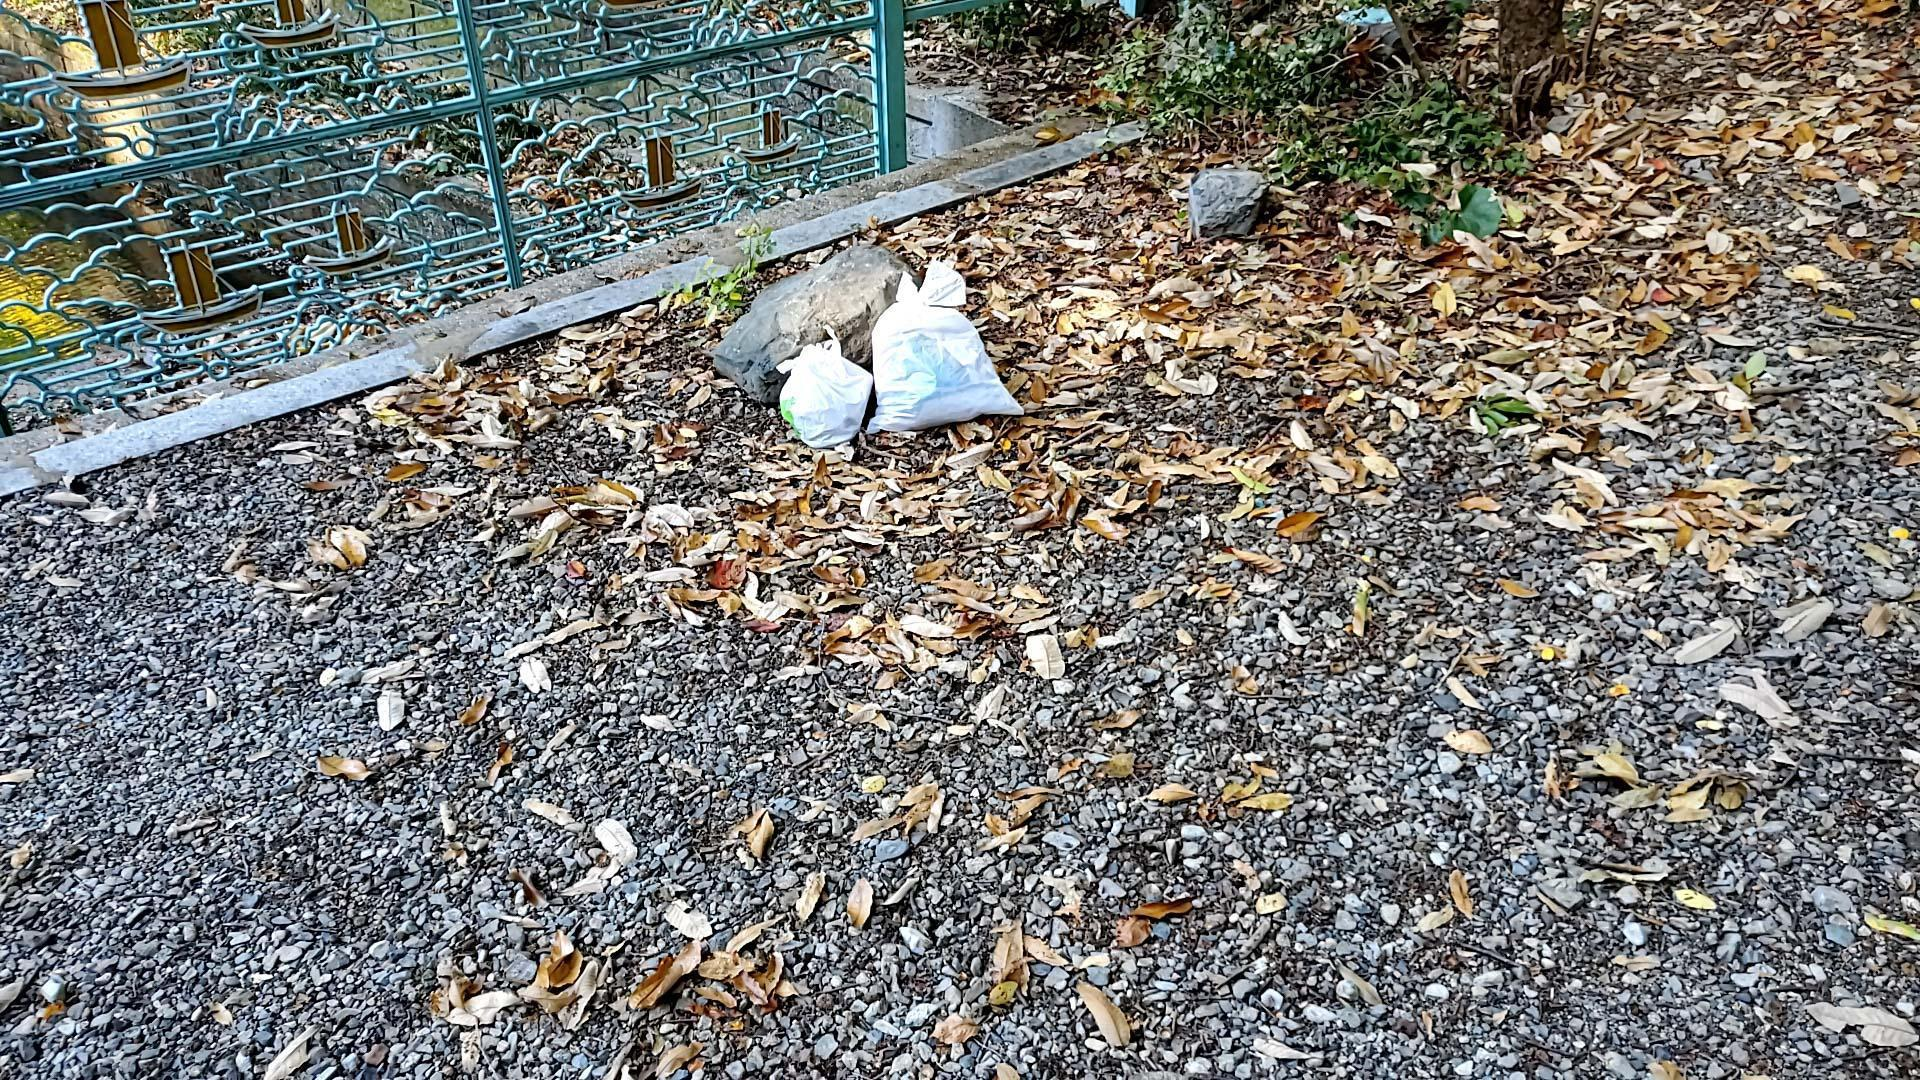white_bag: (858, 255, 1029, 438), (760, 320, 881, 454)
